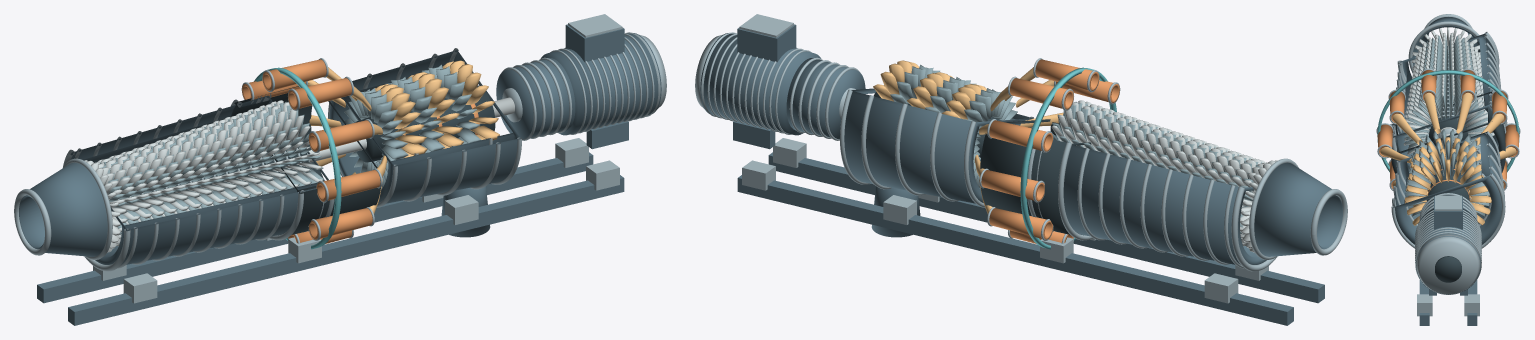
Rendered from turbine.glb.
The picture shows the model from 3 angles, left to right: view 1: azimuth 30°, elevation 25°; view 2: azimuth 150°, elevation 25°; view 3: azimuth 270°, elevation 25°; orthographic projection. The views are drawn at different scales.
Parts seen in each view (by area): view 1: Longitudinal skid rail -0.52, Compressor casing | open cutaway, Turbine casing | open cutaway, Longitudinal skid rail +0.52, Intake bellmouth, Generator frame, Load gear casing, Combustion wrapper | sectioned, Turbine rotor drum, Generator terminal box, Fuel manifold ring | schematic, Combustion casing | Can 05 (+41 smaller); view 2: Compressor casing | open cutaway, Longitudinal skid rail +0.52, Turbine casing | open cutaway, Longitudinal skid rail -0.52, Intake bellmouth, Generator frame, Combustion wrapper | sectioned, Load gear casing, Fuel manifold ring | schematic, Generator terminal box, Combustion casing | Can 01, Combustion casing | Can 02 (+23 smaller); view 3: Turbine casing | open cutaway, Generator end bell, Compressor casing | open cutaway, Fuel manifold ring | schematic, Compressor stator | stage 17, Generator frame, Combustion wrapper | sectioned, Compressor rotor | stage 17, Generator shaft cap, Turbine rotor drum, Generator terminal box, Turbine casing rib 5 (+64 smaller).
Part boxes in pixels (bbox=[...]): Longitudinal skid rail -0.52: bbox=[68, 175, 624, 325]; Compressor casing | open cutaway: bbox=[70, 95, 328, 264]; Turbine casing | open cutaway: bbox=[329, 50, 520, 203]; Longitudinal skid rail +0.52: bbox=[37, 152, 593, 303]; Intake bellmouth: bbox=[19, 162, 107, 256]; Generator frame: bbox=[540, 33, 661, 135]; Load gear casing: bbox=[496, 58, 575, 139]; Combustion wrapper | sectioned: bbox=[231, 81, 380, 235]; Turbine rotor drum: bbox=[355, 85, 495, 162]; Generator terminal box: bbox=[565, 24, 624, 62]; Fuel manifold ring | schematic: bbox=[254, 67, 341, 249]; Combustion casing | Can 05: bbox=[308, 120, 372, 151]; Compressor casing | open cutaway: bbox=[1054, 134, 1266, 264]; Longitudinal skid rail +0.52: bbox=[737, 175, 1293, 325]; Turbine casing | open cutaway: bbox=[844, 88, 1032, 203]; Longitudinal skid rail -0.52: bbox=[768, 152, 1324, 303]; Intake bellmouth: bbox=[1254, 162, 1342, 256]; Generator frame: bbox=[700, 33, 821, 135]; Combustion wrapper | sectioned: bbox=[980, 119, 1091, 235]; Load gear casing: bbox=[786, 58, 865, 139]; Fuel manifold ring | schematic: bbox=[1020, 67, 1116, 249]; Generator terminal box: bbox=[737, 24, 796, 62]; Combustion casing | Can 01: bbox=[981, 170, 1044, 201]; Combustion casing | Can 02: bbox=[989, 120, 1053, 151]; Turbine casing | open cutaway: bbox=[1393, 132, 1501, 244]; Generator end bell: bbox=[1415, 234, 1481, 294]; Compressor casing | open cutaway: bbox=[1393, 33, 1498, 167]; Fuel manifold ring | schematic: bbox=[1377, 70, 1519, 172]; Compressor stator | stage 17: bbox=[1404, 94, 1492, 152]; Generator frame: bbox=[1416, 208, 1480, 294]; Combustion wrapper | sectioned: bbox=[1391, 91, 1505, 173]; Compressor rotor | stage 17: bbox=[1402, 92, 1494, 154]; Generator shaft cap: bbox=[1435, 256, 1461, 282]; Turbine rotor drum: bbox=[1427, 153, 1469, 201]; Generator terminal box: bbox=[1434, 196, 1462, 229]; Turbine casing rib 5: bbox=[1391, 173, 1505, 248].
Size of the model in its own units: 12.13 by 3.61 by 3.16.
